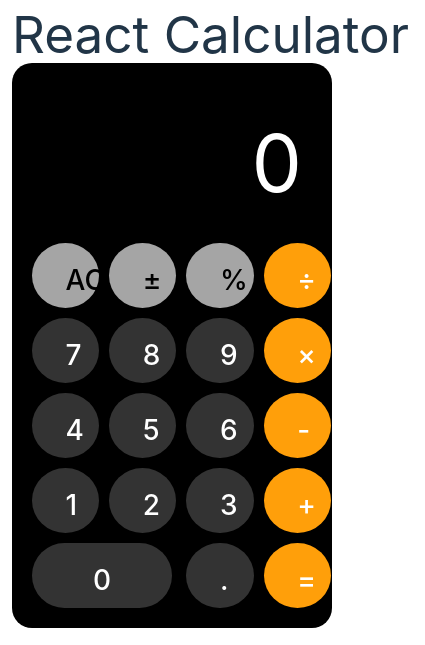
Test: Calculator › percentage calculation
Click the button "5" at point(143, 425), box [109,393,176,458]
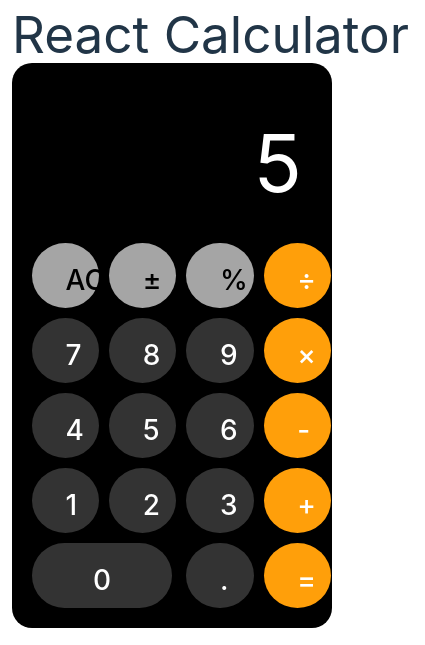
Click the button "%" at point(220, 275), box [186,243,254,308]
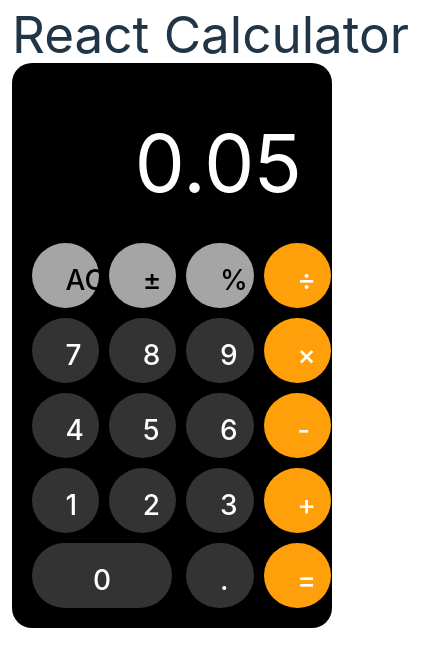
Now the text with test id "display" reads "0.05", box [135,114,302,211]
